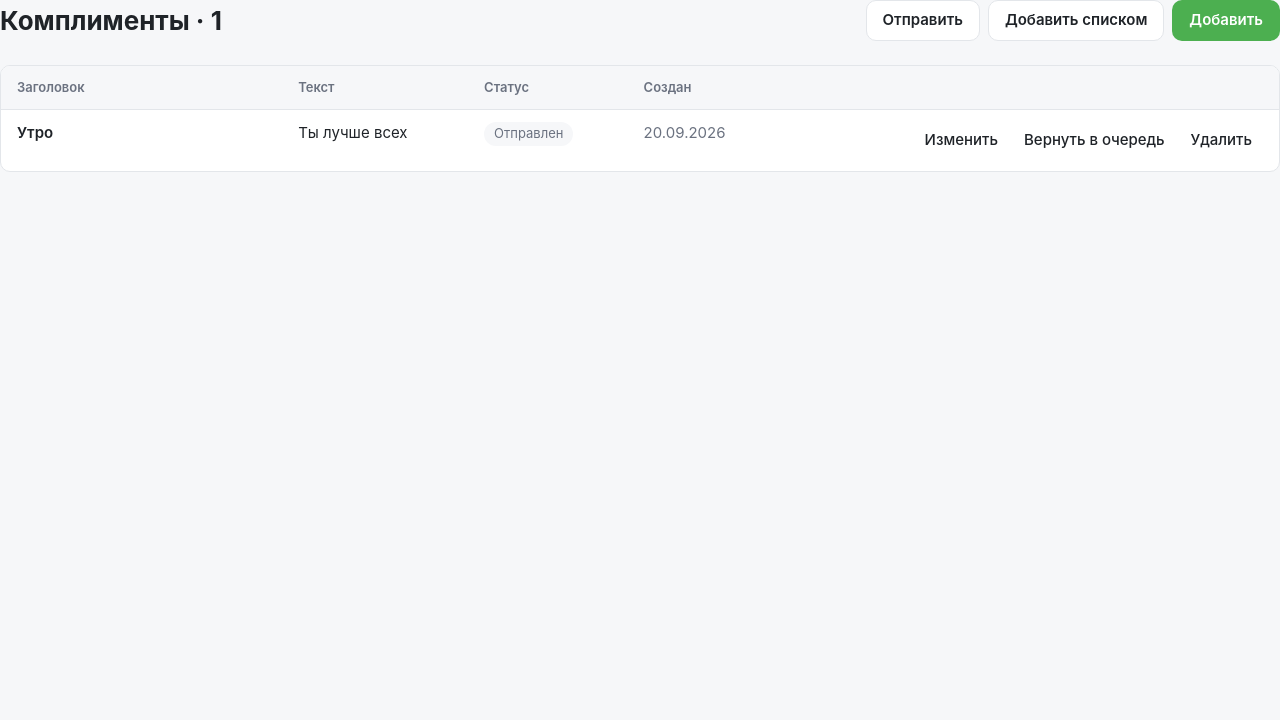
Test: ComplimentsPage: отправка одного комплимента › все комплименты отправлены — подсказка, отправить нельзя
This screenshot has width=1280, height=720.
Check: the heading "Комплименты · 1" is shown, box top-left (0, 1), bottom-right (222, 40)
Click the button "Отправить" at point(923, 20), box top-left (866, 0), bottom-right (980, 40)
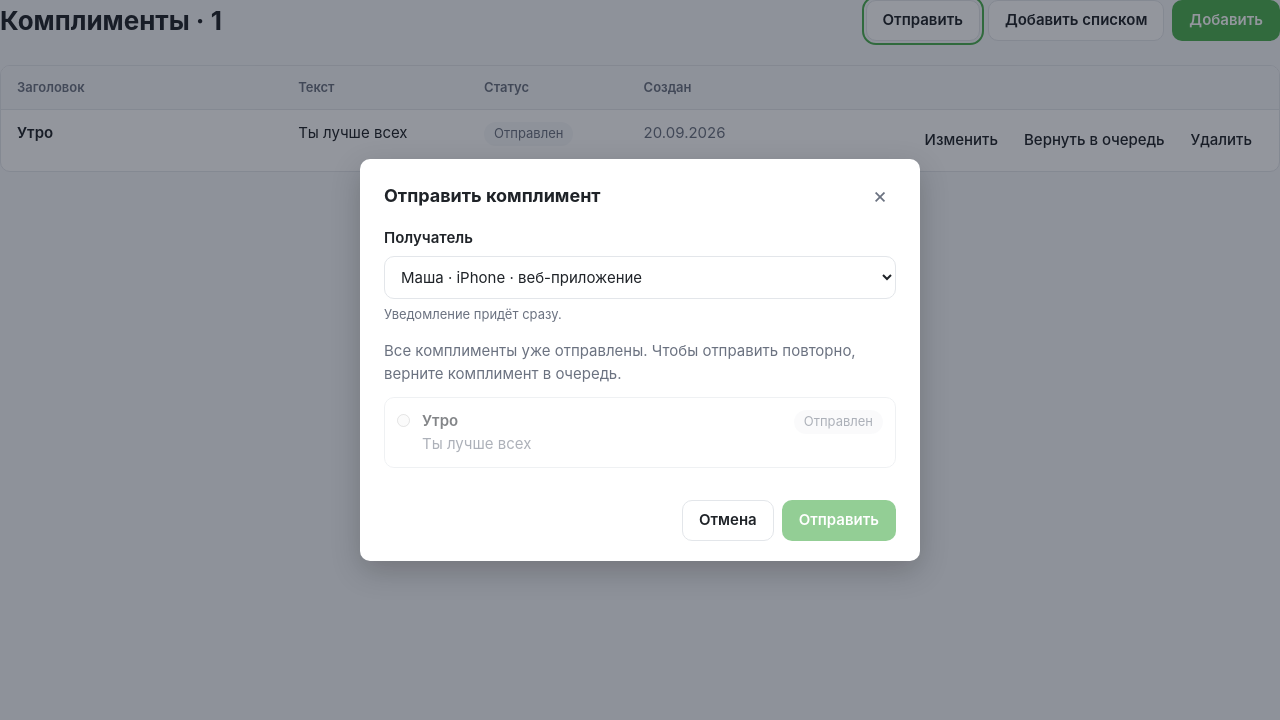
Check: the radio button labelled "Утро Ты лучше всех Отправлен" is disabled, box top-left (397, 414), bottom-right (410, 427)
Check: the text "Все комплименты уже отправлены. Чтобы отправить повторно, верните комплимент в очередь." is shown, box top-left (384, 341), bottom-right (856, 383)
Check: the button "Отправить" is disabled, box top-left (782, 500), bottom-right (896, 541)
